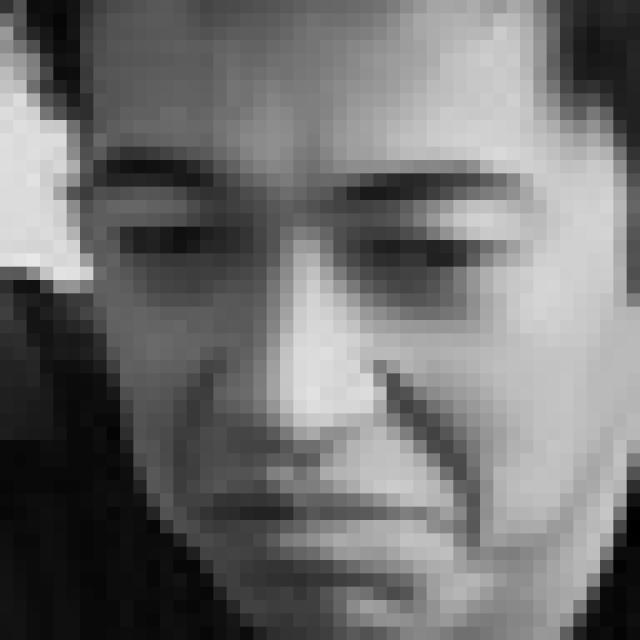sad: (90, 132, 556, 610)
